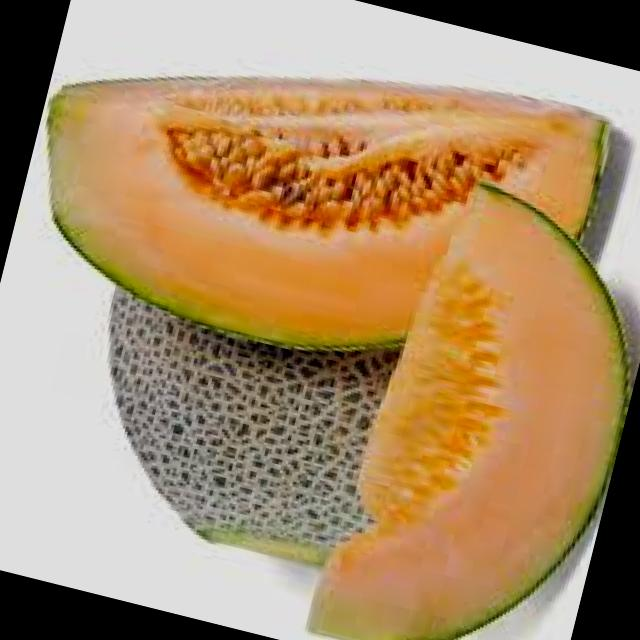cantaloupe: (6, 0, 623, 410), (303, 165, 640, 640)
